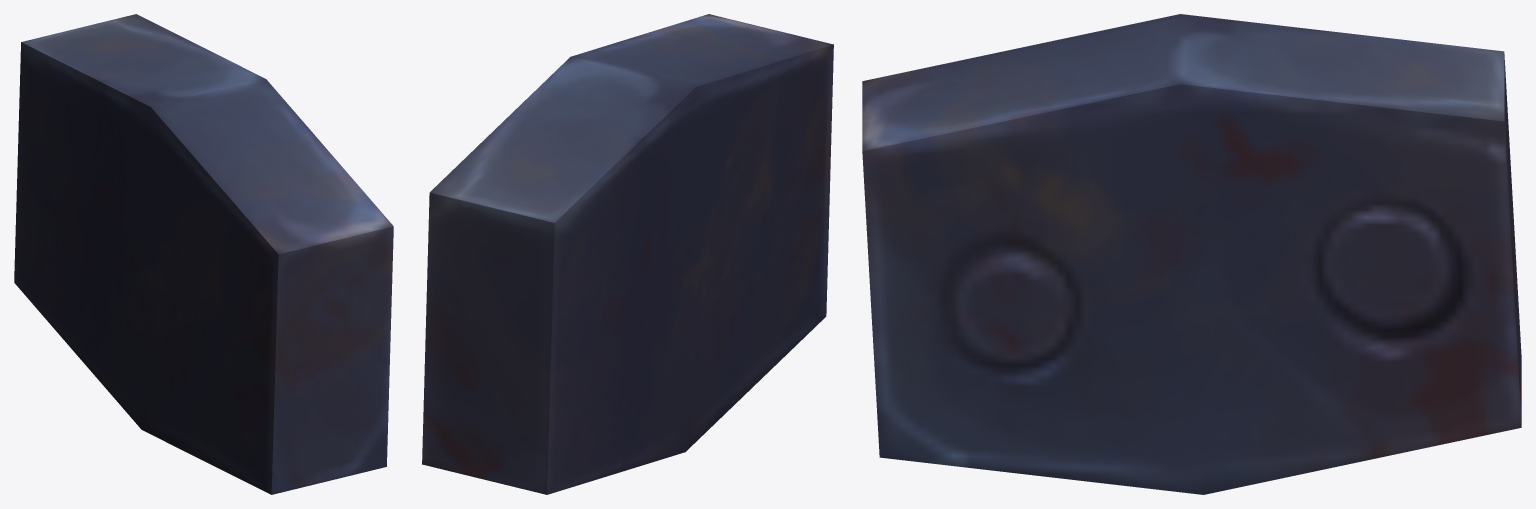
The model's file is armor_holder.fbx.
3 renders of one model, left to right at view 1: azimuth 30°, elevation 25°; view 2: azimuth 150°, elevation 25°; view 3: azimuth 270°, elevation 25°, orthographic. The views are drawn at different scales.
Visible parts, largest first — view 1: armor_holder; view 2: armor_holder; view 3: armor_holder.
Part boxes in pixels (x1,y1,x2,y2): armor_holder: (14,14,393,494); armor_holder: (422,14,833,494); armor_holder: (862,14,1521,494).
Size of the model in its own units: 0.085 by 0.2323 by 0.3378.
